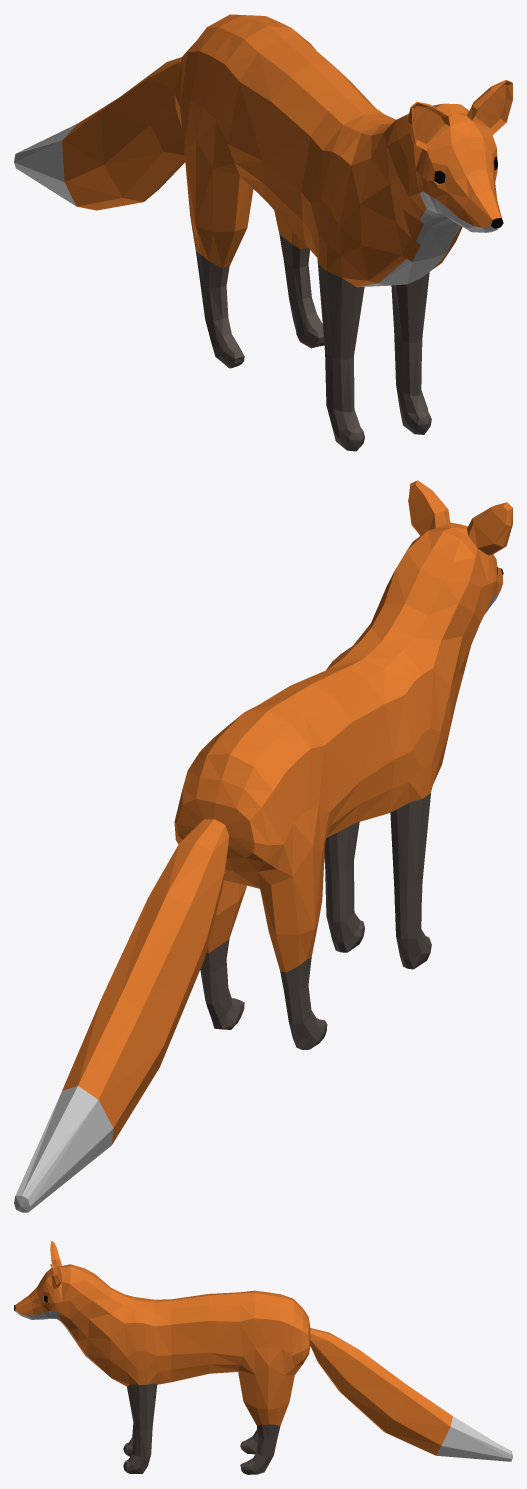
Rendered from TriangulatedFox.fbx.
3 views of the same model, one above another, from view 1: azimuth 30°, elevation 25°; view 2: azimuth 150°, elevation 25°; view 3: azimuth 270°, elevation 25° (orthographic). The views are drawn at different scales.
Visible parts, largest first — view 1: TriangulatedFox; view 2: TriangulatedFox; view 3: TriangulatedFox.
Boxes of the visible parts, left/top/right/bottom form: TriangulatedFox: left=14, top=14, right=512, bottom=451; TriangulatedFox: left=14, top=480, right=512, bottom=1212; TriangulatedFox: left=14, top=1241, right=512, bottom=1474.
Bounding box in the file's own units: 114 × 369 × 789.
